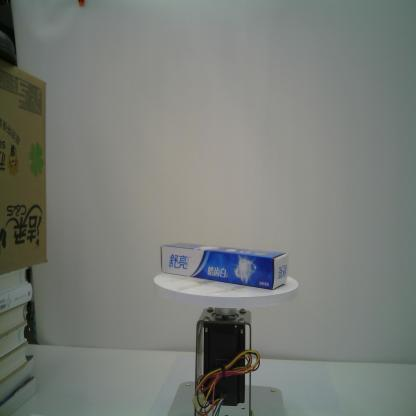Personal Hygiene: (160, 243, 288, 291)
